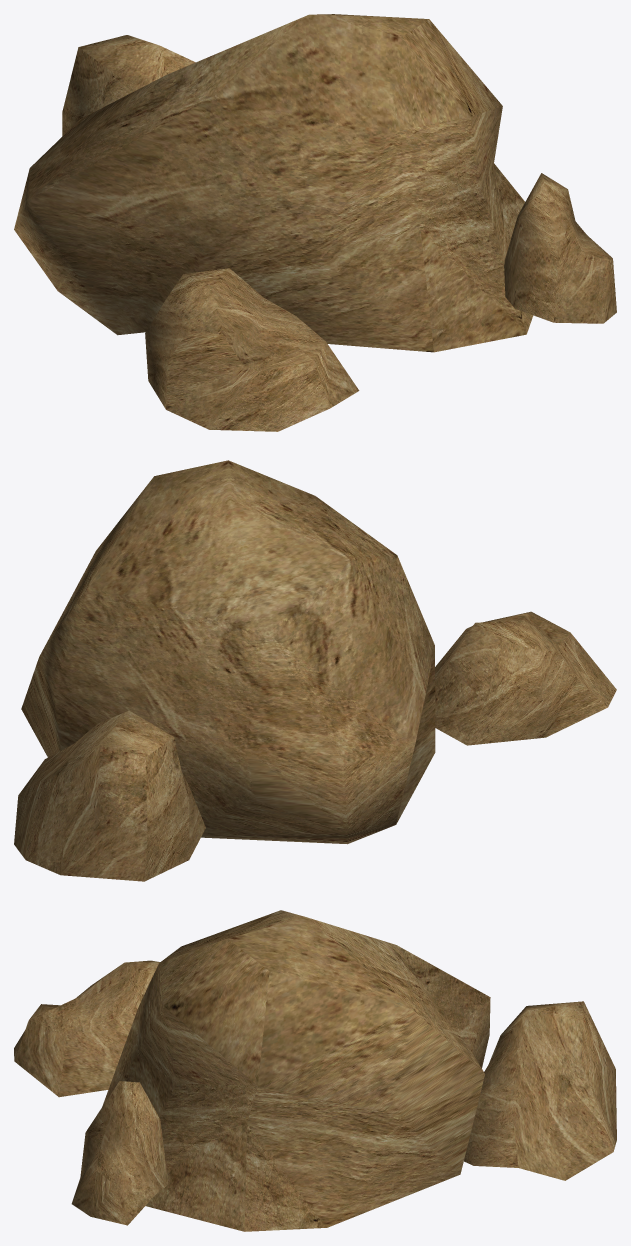
Rendered from w_cd_rock_s_01.glb.
The picture shows the model from 3 angles, top to bottom: view 1: azimuth 30°, elevation 25°; view 2: azimuth 150°, elevation 25°; view 3: azimuth 270°, elevation 25°; orthographic projection. The views are drawn at different scales.
Visible parts, largest first — view 1: w_cd_rock_S_01; view 2: w_cd_rock_S_01; view 3: w_cd_rock_S_01.
Boxes of the visible parts, box(x1,y1,x2,y2) form: w_cd_rock_S_01: box(14, 14, 616, 431); w_cd_rock_S_01: box(14, 460, 616, 881); w_cd_rock_S_01: box(14, 910, 616, 1231).
Size of the model in its own units: 14.28 by 8.03 by 17.72.
Materials: 1 (1 with a texture image).
